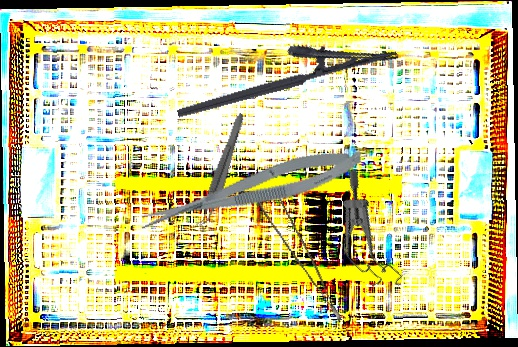Micro Scissor: (134, 140, 367, 238)
Needle Holder: (168, 20, 399, 119)
Speculum: (303, 166, 436, 302)
Tissue Forceps: (254, 184, 342, 332), (195, 110, 247, 230)
